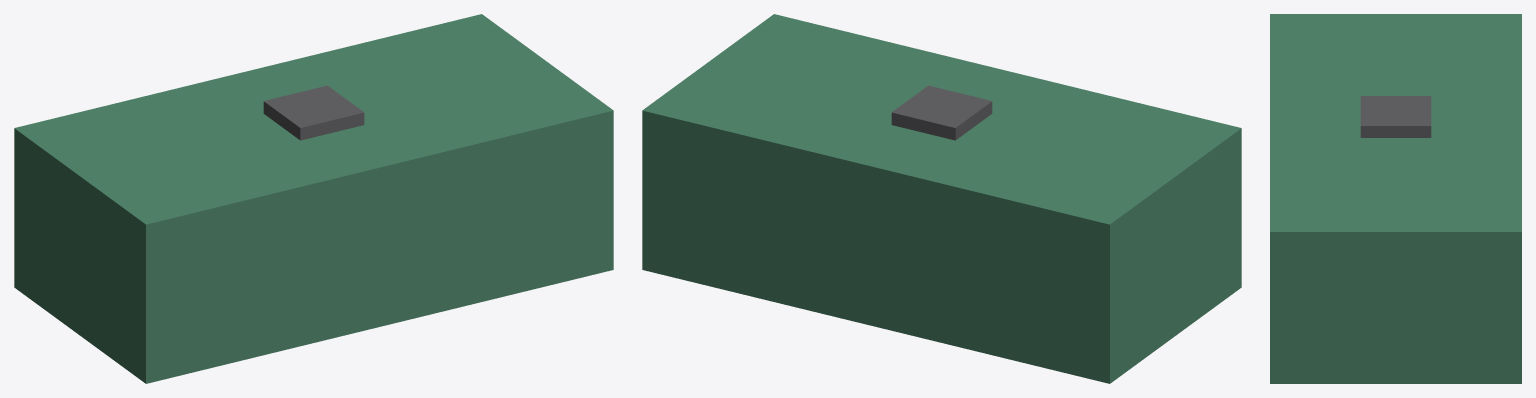
3 renders of one model, left to right at view 1: azimuth 30°, elevation 25°; view 2: azimuth 150°, elevation 25°; view 3: azimuth 270°, elevation 25°, orthographic. The views are drawn at different scales.
Visible parts, largest first — view 1: lm2596-pcb, lm2596-ic; view 2: lm2596-pcb, lm2596-ic; view 3: lm2596-pcb, lm2596-ic.
Boxes of the visible parts, box(x1,y1,x2,y2) form: lm2596-pcb: box(14, 14, 613, 383); lm2596-ic: box(263, 85, 364, 140); lm2596-pcb: box(642, 14, 1241, 383); lm2596-ic: box(891, 85, 992, 140); lm2596-pcb: box(1270, 14, 1521, 383); lm2596-ic: box(1360, 96, 1431, 137).
Size of the model in its own units: 0.043 by 0.0151 by 0.021.
